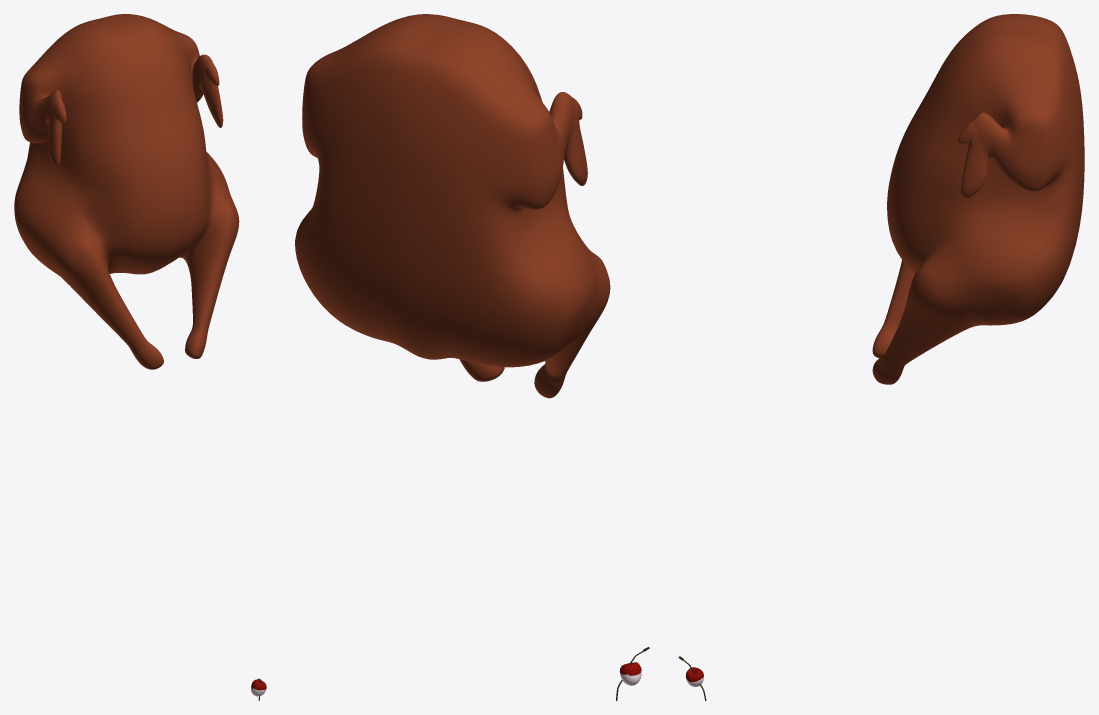
File: turkey.glb
3 renders of one model, left to right at view 1: azimuth 30°, elevation 25°; view 2: azimuth 150°, elevation 25°; view 3: azimuth 270°, elevation 25°, orthographic. The views are drawn at different scales.
Parts seen in each view (by area): view 1: Cube.020; view 2: Cube.020; view 3: Cube.020.
Part boxes in pixels (<box>): Cube.020: <box>14,14,239,369</box>; Cube.020: <box>295,14,610,398</box>; Cube.020: <box>872,14,1084,384</box>.
Bounding box in the file's own units: 12.38 × 35 × 19.26.
